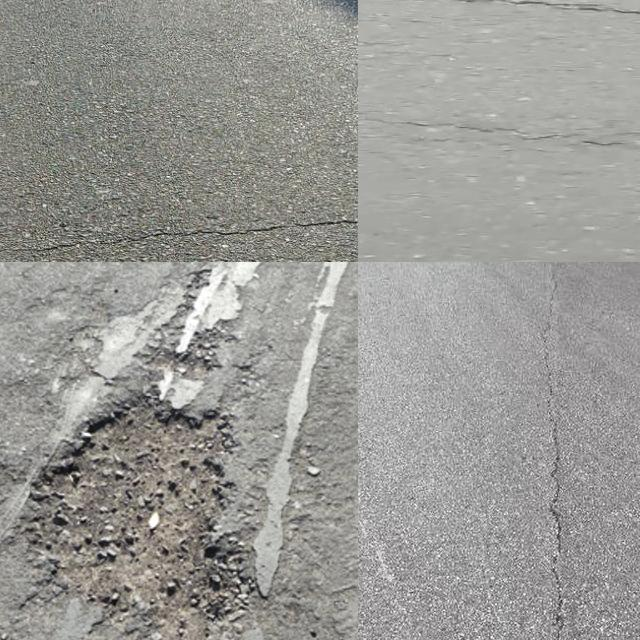Lubang: (45, 403, 243, 632)
Melintang: (0, 204, 358, 262)
Memanjang: (526, 262, 580, 640)
